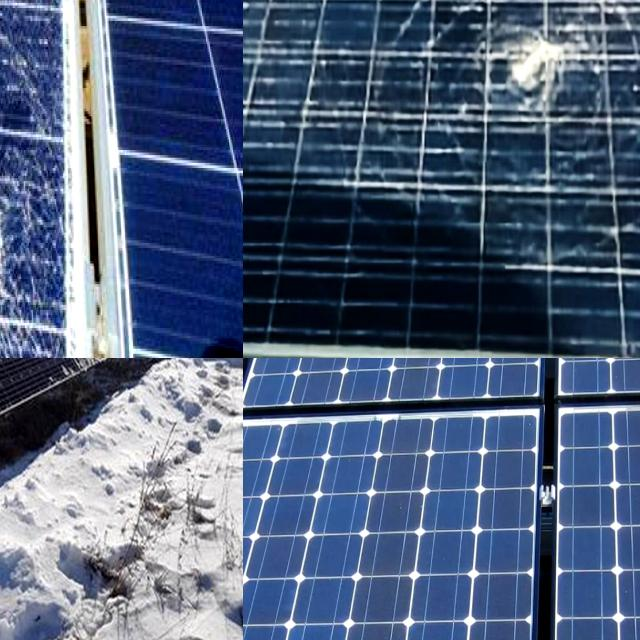crack: (402, 572, 504, 638), (336, 570, 429, 638), (467, 572, 545, 635), (302, 489, 378, 552), (245, 490, 328, 545), (366, 490, 440, 542), (325, 605, 422, 640), (270, 616, 363, 640), (555, 612, 632, 640), (243, 500, 274, 541)
hotspot: (0, 142, 87, 358), (483, 1, 622, 130), (0, 130, 36, 249)
panel: (0, 445, 71, 577), (45, 358, 164, 386), (0, 358, 89, 384), (33, 358, 113, 374), (171, 358, 221, 379), (0, 358, 55, 374), (132, 358, 179, 375), (92, 358, 140, 373), (218, 358, 243, 376)
